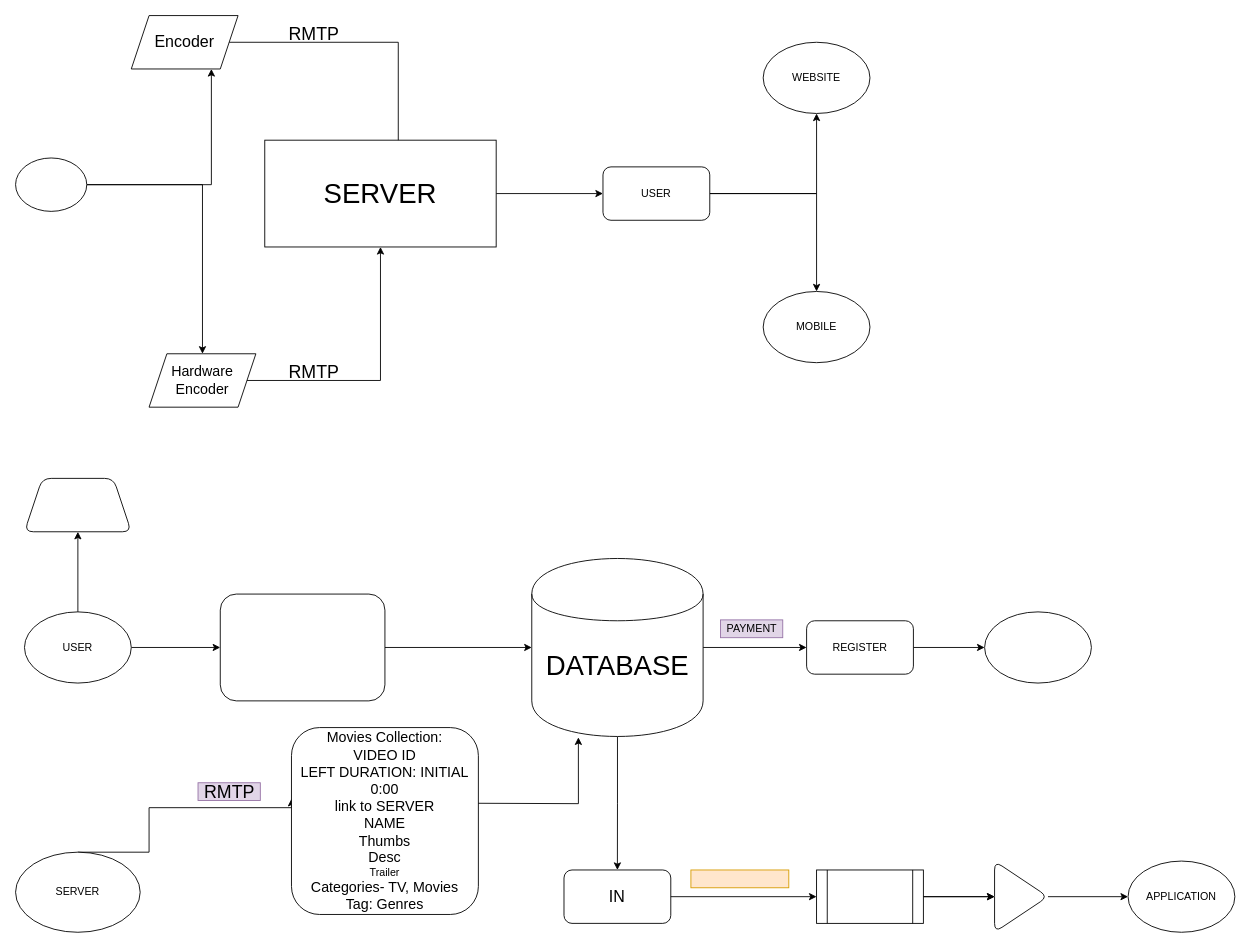
This 1250x948 diagram has some shape labels left out. The box of each missing label's shape, as (x1, y1, x2, y2) in pixels:
API CALLING: (690, 869, 789, 888)
LOGIN: (219, 593, 385, 701)
PLAY: (994, 860, 1048, 932)
Profile:: (24, 477, 131, 532)
User id: (984, 611, 1091, 683)
Video: (15, 157, 87, 211)
VIDEOS: (816, 869, 923, 923)
